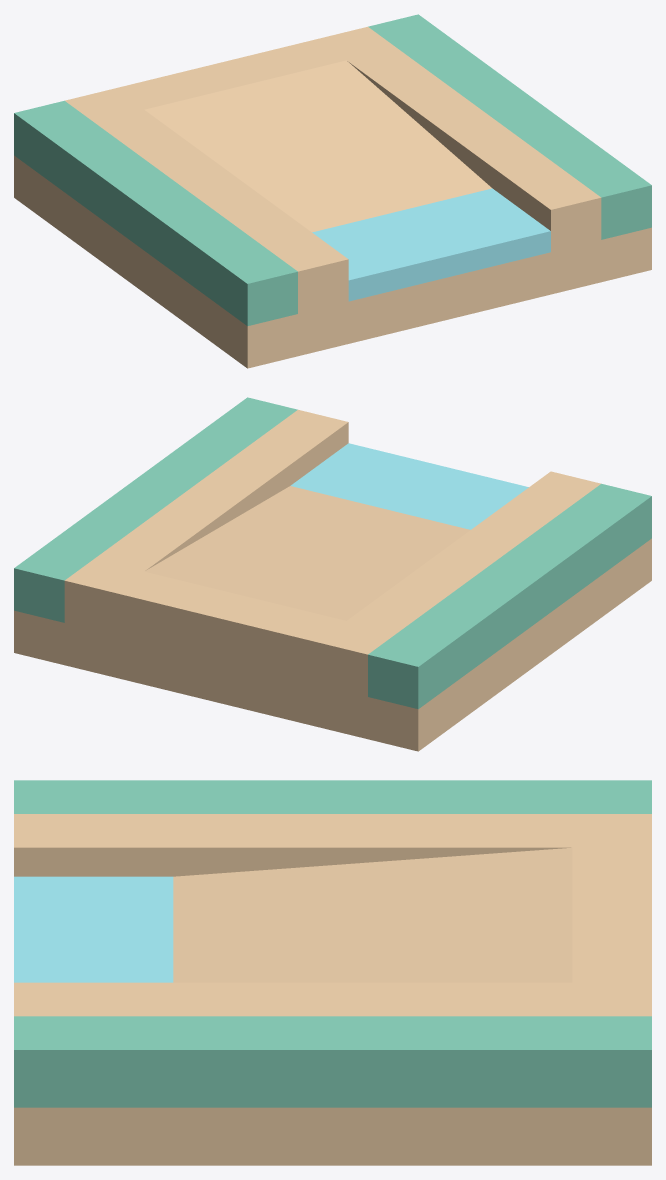
Rendered from tile_riverTransition.glb.
3 views of the same model, one above another, from view 1: azimuth 30°, elevation 25°; view 2: azimuth 150°, elevation 25°; view 3: azimuth 270°, elevation 25° (orthographic). The views are drawn at different scales.
Visible parts, largest first — view 1: tile_riverTransition; view 2: tile_riverTransition; view 3: tile_riverTransition.
Boxes of the visible parts, x1=… form: tile_riverTransition: x1=14, y1=14, x2=651, y2=368; tile_riverTransition: x1=14, y1=397, x2=651, y2=751; tile_riverTransition: x1=14, y1=780, x2=651, y2=1165.
Size of the model in its own units: 1 by 0.2 by 1.
